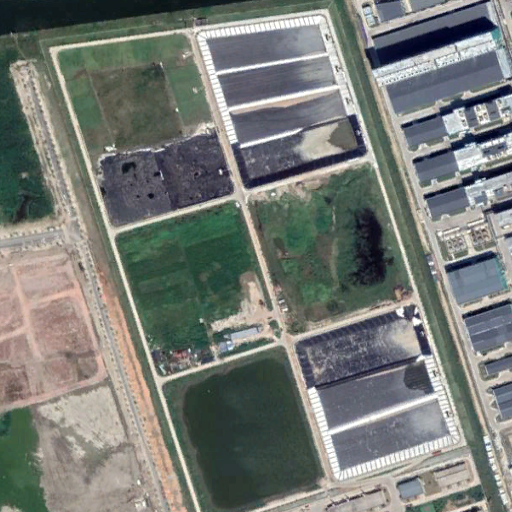lf: (293, 303, 462, 480), (206, 25, 370, 190), (94, 120, 237, 232)
